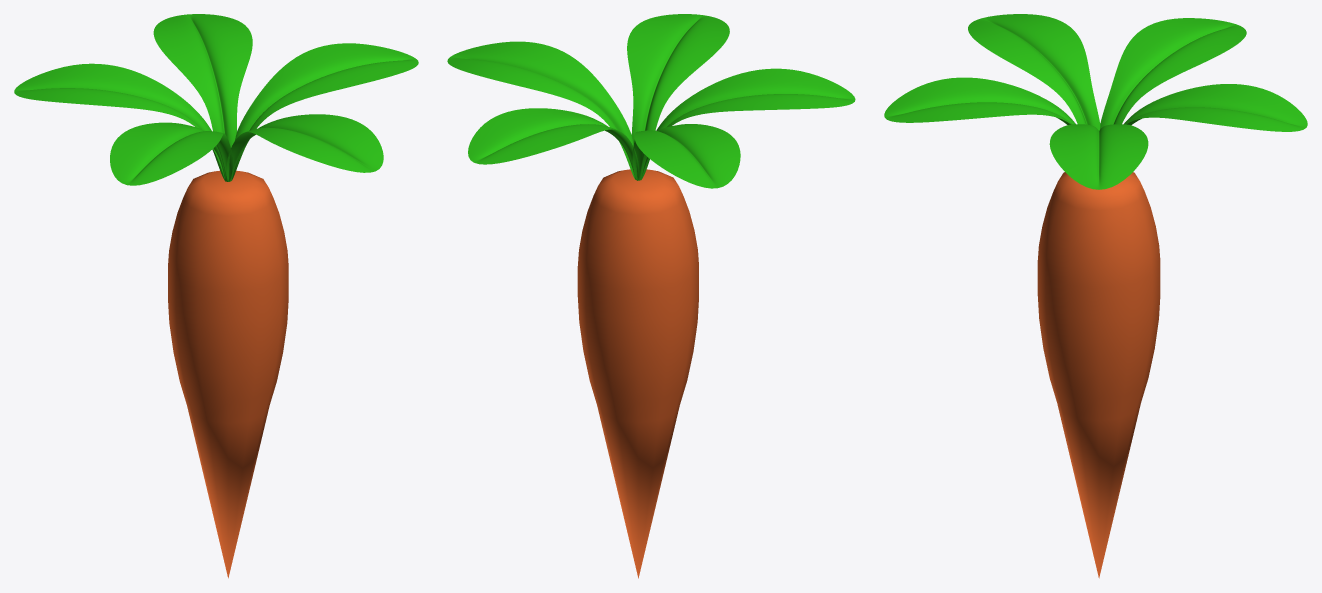
File: carrot_v1.fbx
The picture shows the model from 3 angles, left to right: view 1: azimuth 30°, elevation 25°; view 2: azimuth 150°, elevation 25°; view 3: azimuth 270°, elevation 25°; orthographic projection.
Parts seen in each view (by area): view 1: Root, Leaves; view 2: Root, Leaves; view 3: Root, Leaves.
Boxes of the visible parts, bbox=[...] form: Root: bbox=[168, 170, 288, 578]; Leaves: bbox=[14, 14, 418, 185]; Root: bbox=[577, 169, 698, 578]; Leaves: bbox=[447, 14, 855, 188]; Root: bbox=[1037, 172, 1160, 578]; Leaves: bbox=[884, 14, 1307, 189].
Bounding box in the file's own units: 400 × 532 × 414.
